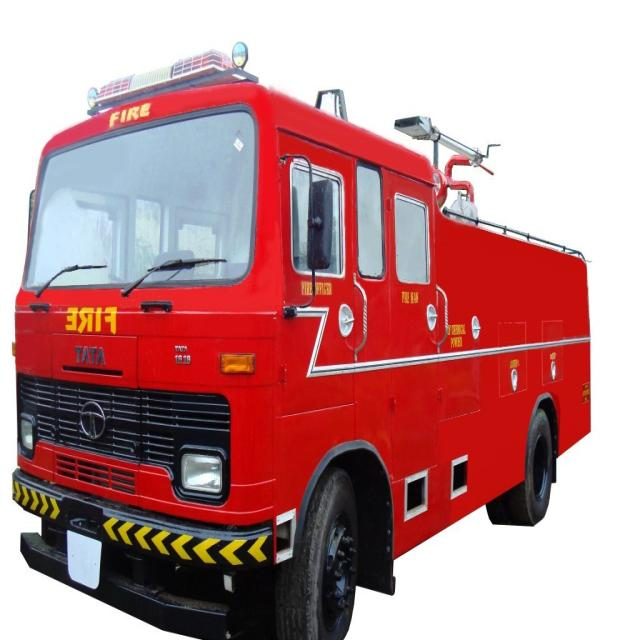Fire Truck: (16, 43, 613, 599)
